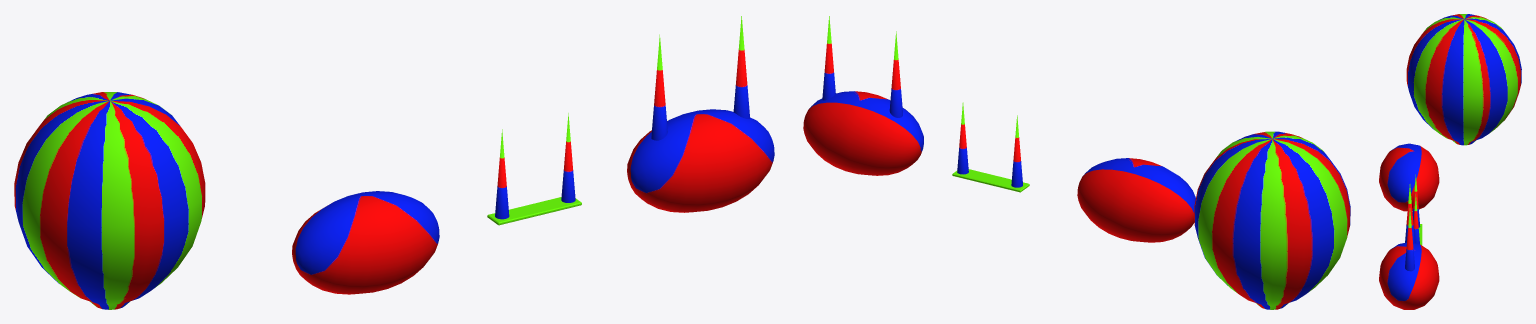
The model's file is cheakpoint_02.fbx.
The picture shows the model from 3 angles, left to right: view 1: azimuth 30°, elevation 25°; view 2: azimuth 150°, elevation 25°; view 3: azimuth 270°, elevation 25°; orthographic projection. The views are drawn at different scales.
Parts seen in each view (by area): view 1: pSphere1, polySurface6, polySurface5, polySurface1; view 2: pSphere1, polySurface6, polySurface5, polySurface1; view 3: pSphere1, polySurface6, polySurface5, polySurface1.
Part boxes in pixels (box(x1,y1,x2,y2)): pSphere1: box(14, 92, 205, 309); polySurface6: box(627, 16, 774, 212); polySurface5: box(292, 191, 439, 294); polySurface1: box(487, 113, 581, 225); pSphere1: box(1194, 131, 1350, 309); polySurface6: box(803, 16, 923, 175); polySurface5: box(1077, 158, 1195, 242); polySurface1: box(952, 102, 1029, 192); pSphere1: box(1406, 14, 1521, 145); polySurface6: box(1379, 184, 1439, 309); polySurface5: box(1379, 143, 1439, 211); polySurface1: box(1412, 174, 1422, 245).
Bounding box in the file's own units: 716 × 202 × 211.
Materials: 1 (1 with a texture image).
